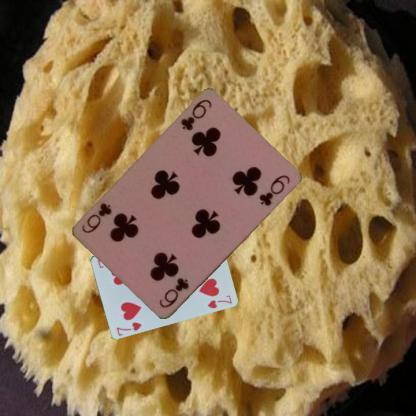6c: (156, 275, 191, 310), (178, 97, 213, 132)
7h: (114, 319, 143, 337)
